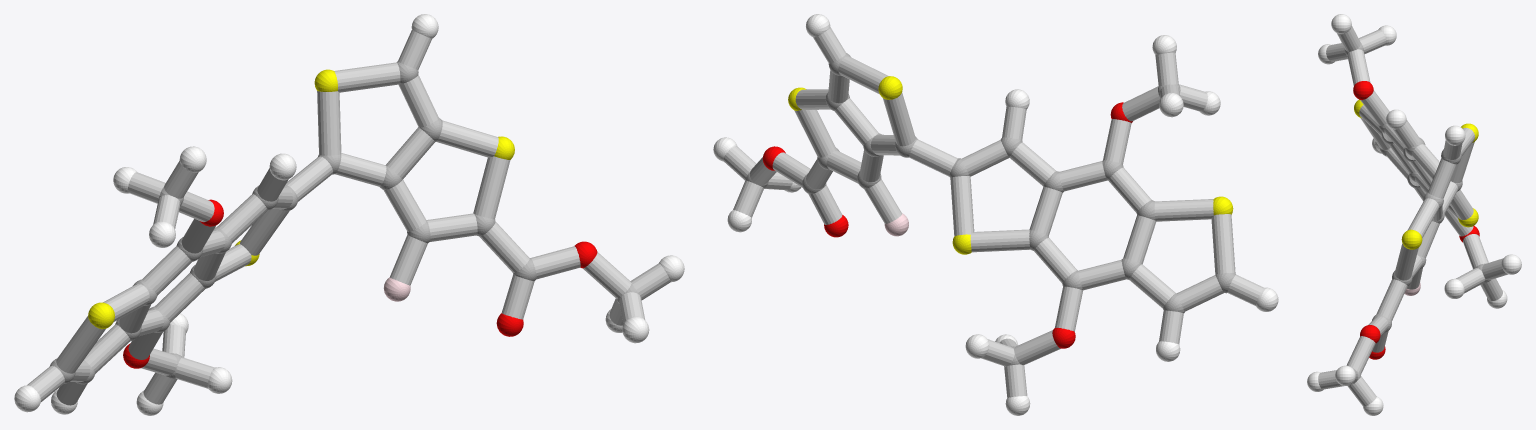
Rendered from color.glb.
3 views of the same model, side by side, from view 1: azimuth 30°, elevation 25°; view 2: azimuth 150°, elevation 25°; view 3: azimuth 270°, elevation 25° (orthographic). The views are drawn at different scales.
Parts seen in each view (by area): view 1: grp15205, grp8689, grp1, grp7241, grp13395; view 2: grp15205, grp8689, grp1, grp7241, grp13395; view 3: grp15205, grp8689, grp1, grp13395, grp7241.
Part boxes in pixels (x1,y1,x2,y2): grp15205: (27,30,670,405); grp8689: (14,14,684,415); grp1: (50,61,638,384); grp7241: (88,69,514,329); grp13395: (123,199,597,368); grp15205: (723,27,1263,397); grp8689: (713,14,1278,415); grp1: (745,53,1235,365); grp7241: (788,76,1233,254); grp13395: (762,102,1132,348); grp15205: (1318,25,1508,406); grp8689: (1307,14,1521,415); grp1: (1344,43,1490,386); grp13395: (1353,81,1479,359); grp7241: (1354,99,1478,249).
Bounding box in the file's own units: 16.47 × 8.8 × 6.27.
